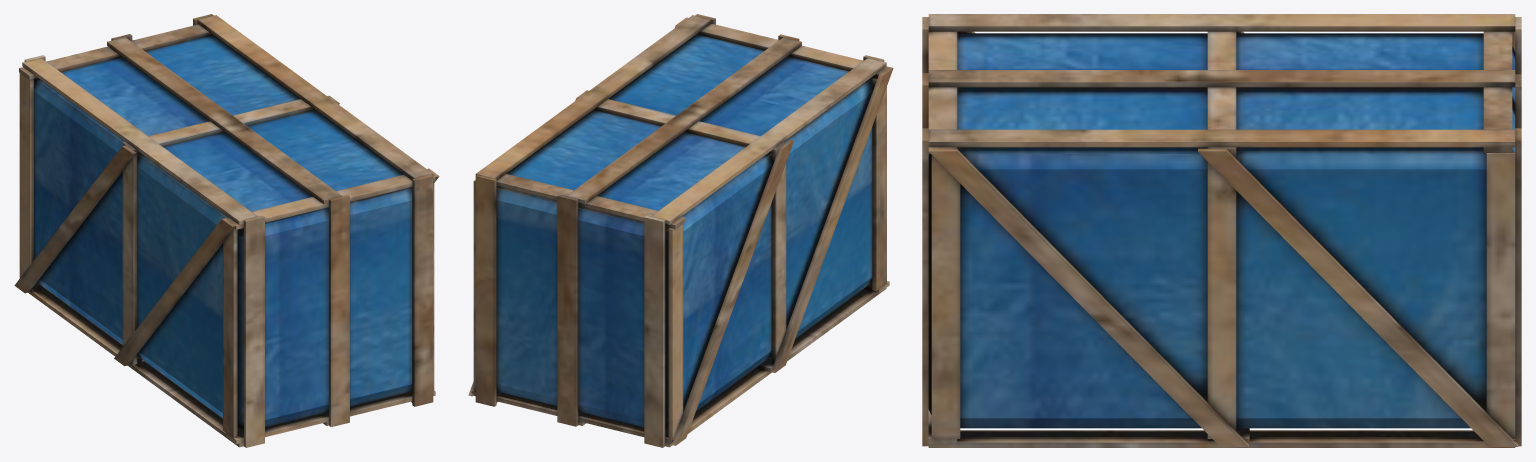
File: Container_1.fbx
3 views of the same model, side by side, from view 1: azimuth 30°, elevation 25°; view 2: azimuth 150°, elevation 25°; view 3: azimuth 270°, elevation 25° (orthographic). The views are drawn at different scales.
Visible parts, largest first — view 1: Box_1011_01_mat_Goods_1011_0; view 2: Box_1011_01_mat_Goods_1011_0; view 3: Box_1011_01_mat_Goods_1011_0.
Part boxes in pixels (left/top/right/bottom): Box_1011_01_mat_Goods_1011_0: left=14, top=14, right=439, bottom=447; Box_1011_01_mat_Goods_1011_0: left=468, top=14, right=893, bottom=447; Box_1011_01_mat_Goods_1011_0: left=922, top=14, right=1521, bottom=447.
Size of the model in its own units: 176 by 184 by 327.
